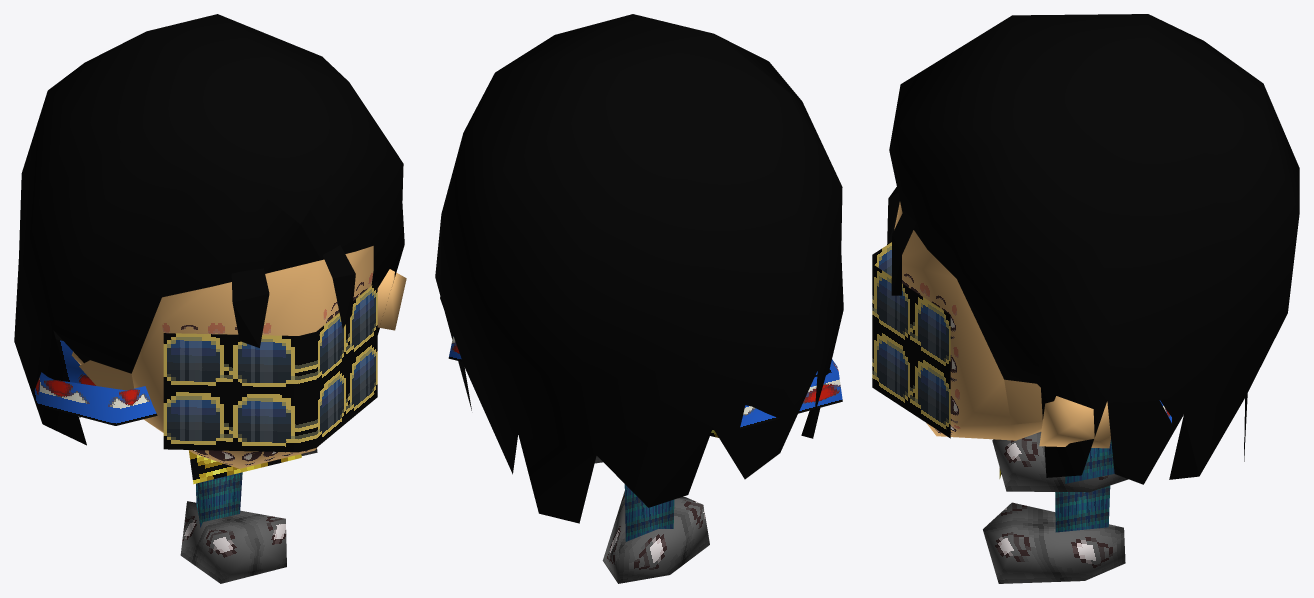
3 views of the same model, side by side, from view 1: azimuth 30°, elevation 25°; view 2: azimuth 150°, elevation 25°; view 3: azimuth 270°, elevation 25° (orthographic). The views are drawn at different scales.
Visible parts, largest first — view 1: pmd48_00_02; view 2: pmd48_00_02; view 3: pmd48_00_02.
Part boxes in pixels (<box>): pmd48_00_02: <box>14,14,406,583</box>; pmd48_00_02: <box>435,14,843,583</box>; pmd48_00_02: <box>872,14,1299,583</box>.
Size of the model in its own units: 1.15 by 1.46 by 1.06.
8 materials, 8 textured.
